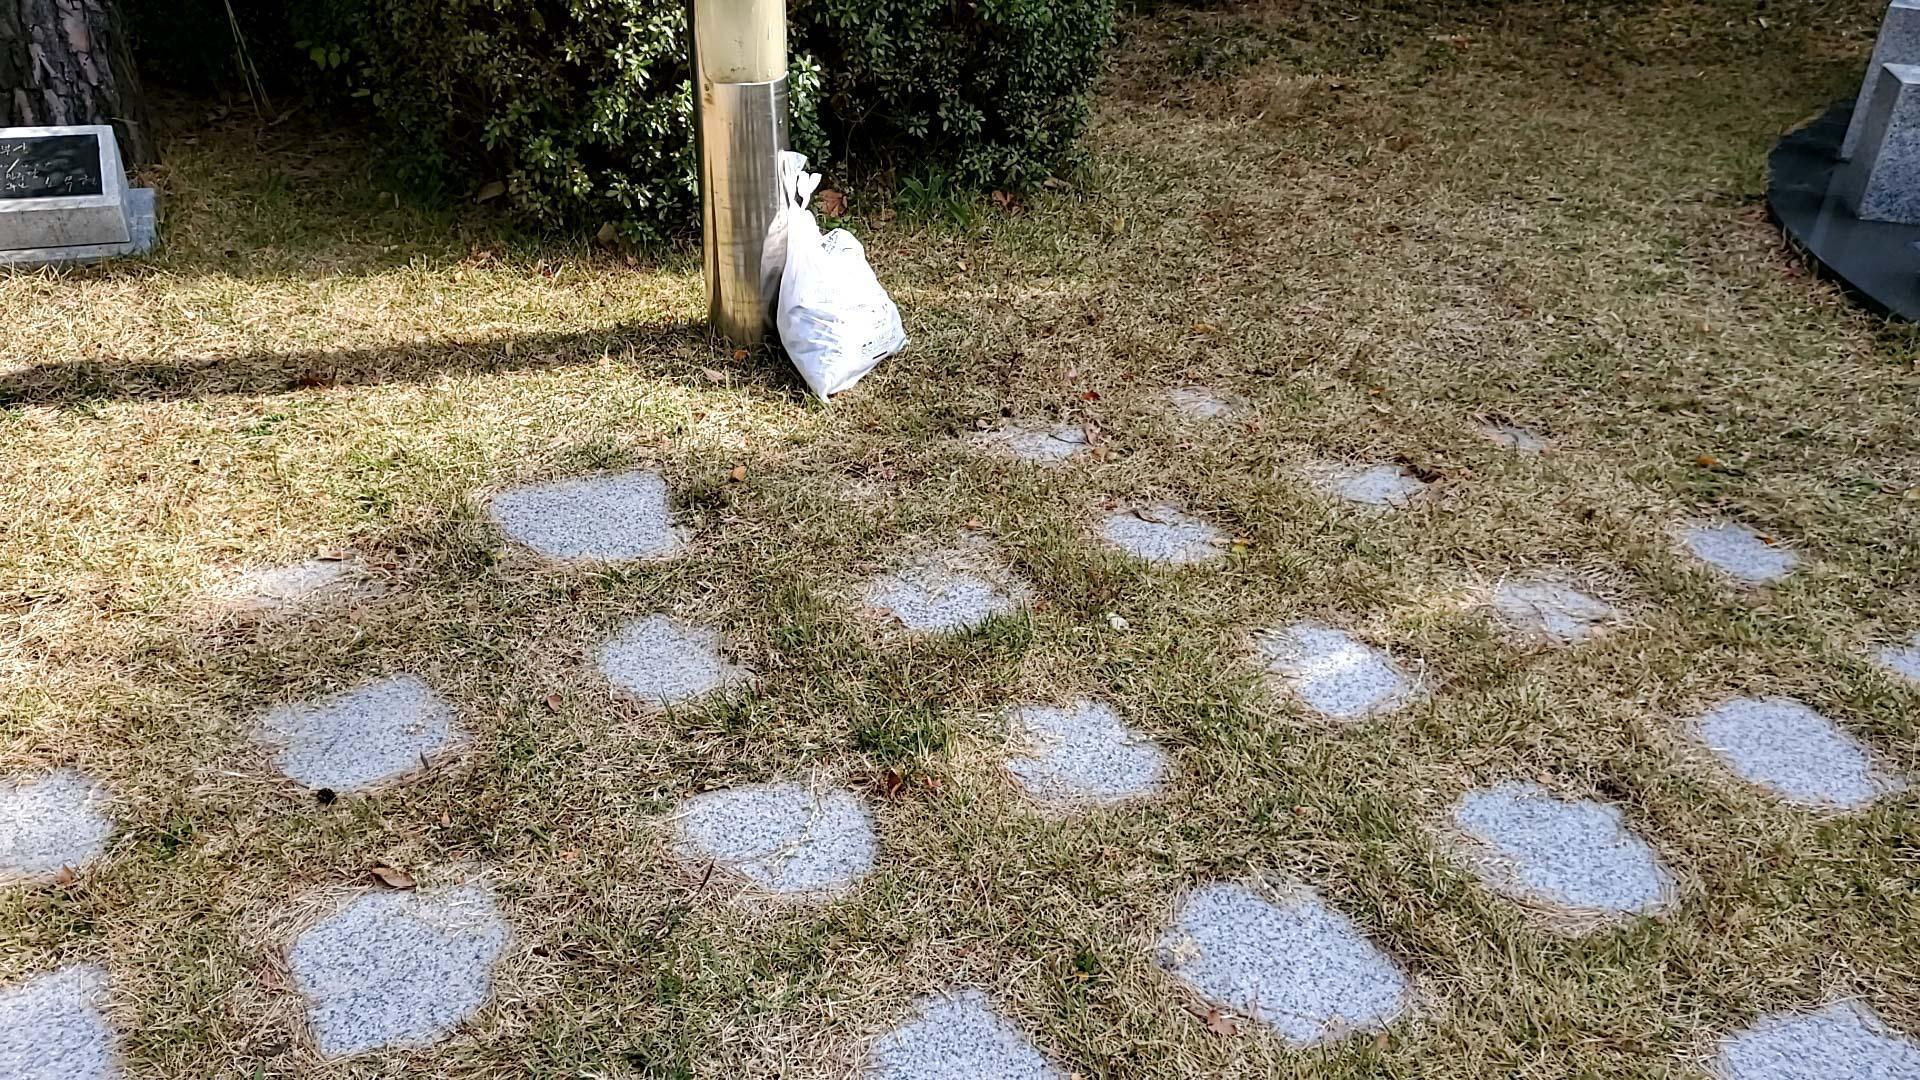white_bag: (746, 142, 928, 411)
